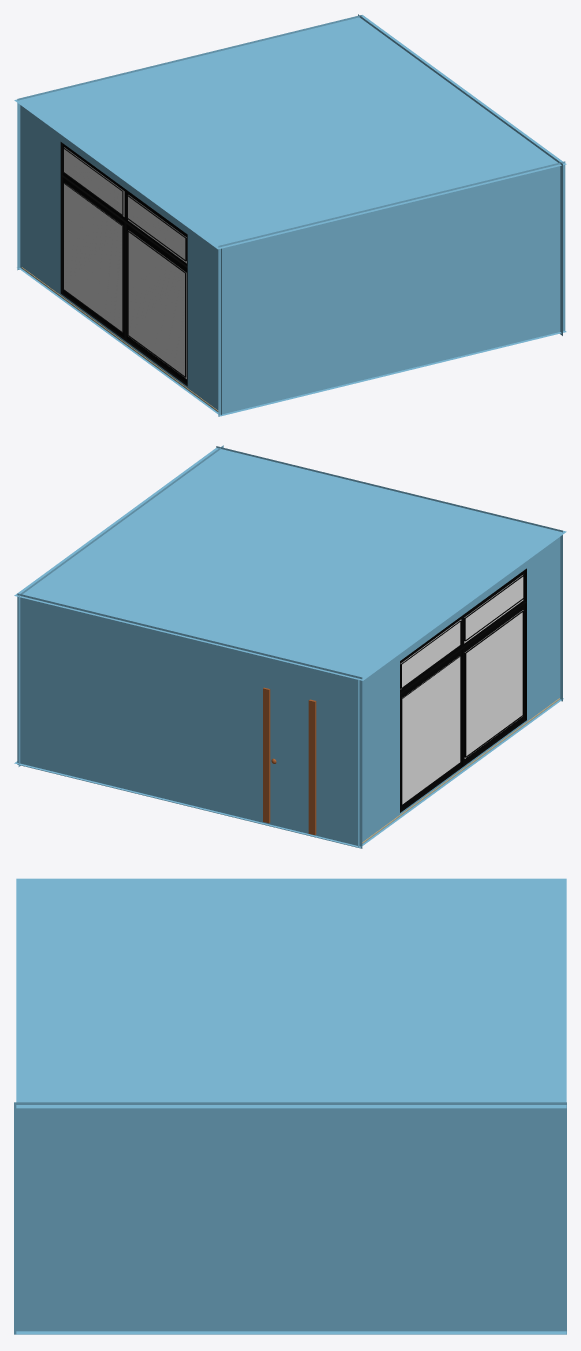
File: livingroom.fbx
3 views of the same model, one above another, from view 1: azimuth 30°, elevation 25°; view 2: azimuth 150°, elevation 25°; view 3: azimuth 270°, elevation 25° (orthographic). The views are drawn at different scales.
Parts seen in each view (by area): view 1: room; view 2: room; view 3: room.
Boxes of the visible parts, x1,y1,x2,y2 form: room: (14,14,566,416); room: (14,445,566,848); room: (14,878,566,1334).
Size of the model in its own units: 593 by 279 by 603.
